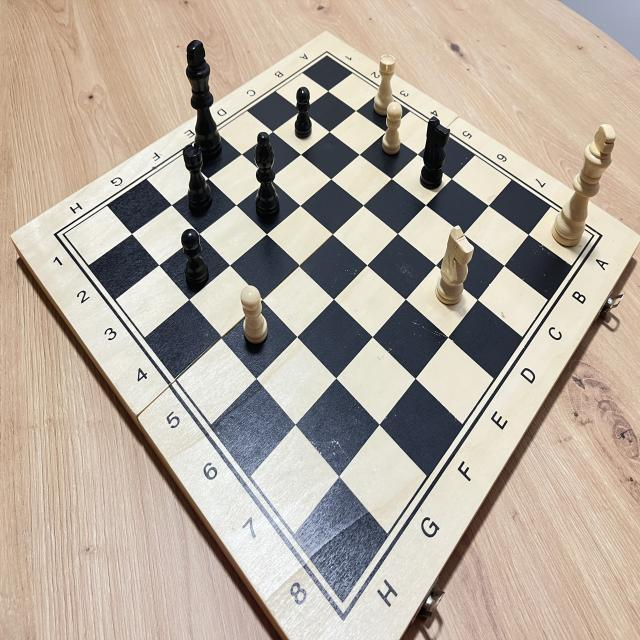black-bishop: (246, 127, 287, 228)
black-king: (174, 27, 225, 167)
black-knight: (415, 111, 457, 196)
black-pawn: (175, 225, 214, 295), (292, 86, 315, 142)
black-rook: (176, 140, 218, 220)
white-king: (543, 113, 620, 261)
white-knight: (430, 216, 477, 310)
white-pawn: (233, 280, 274, 354), (377, 98, 407, 165)
white-rook: (370, 46, 401, 121)
